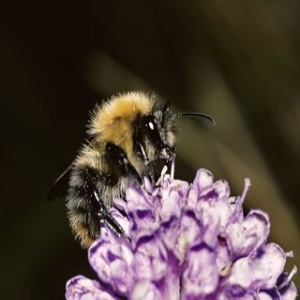bee: (64, 90, 200, 244)
